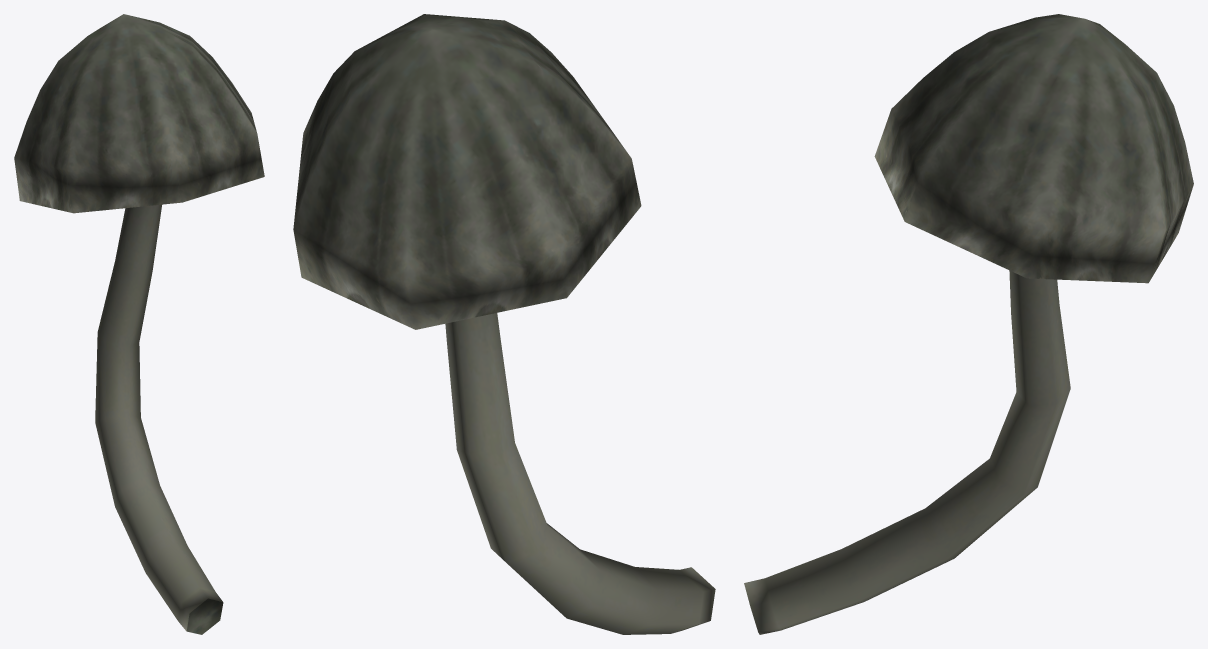
File: cave_mushroom_single_04.dae
3 renders of one model, left to right at view 1: azimuth 30°, elevation 25°; view 2: azimuth 150°, elevation 25°; view 3: azimuth 270°, elevation 25°, orthographic. The views are drawn at different scales.
Parts seen in each view (by area): view 1: sinlge_4; view 2: sinlge_4; view 3: sinlge_4.
Part boxes in pixels (x1,y1,x2,y2): sinlge_4: (14,14,264,634); sinlge_4: (293,14,715,634); sinlge_4: (744,14,1193,634).
Size of the model in its own units: 0.117 by 0.2716 by 0.1711.
